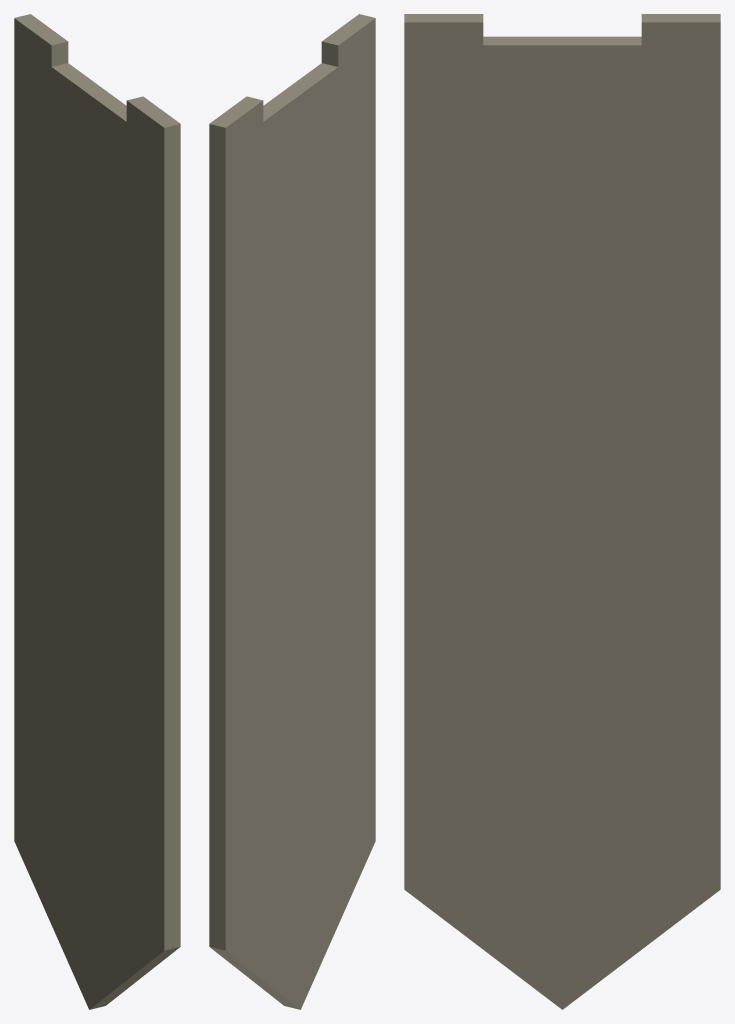
The model's file is flagBannerLong.glb.
3 views of the same model, side by side, from view 1: azimuth 30°, elevation 25°; view 2: azimuth 150°, elevation 25°; view 3: azimuth 270°, elevation 25° (orthographic). The views are drawn at different scales.
Parts seen in each view (by area): view 1: mesh_0, mesh_1; view 2: mesh_0, mesh_1; view 3: mesh_0, mesh_1.
Part boxes in pixels (x1,y1,x2,y2): mesh_0: [14, 14, 180, 1009]; mesh_1: [51, 63, 126, 1009]; mesh_0: [209, 14, 375, 1009]; mesh_1: [263, 63, 338, 1009]; mesh_0: [404, 14, 720, 949]; mesh_1: [483, 36, 641, 1009].
Bounding box in the file's own units: 0.4 × 21.7 × 6.3.
